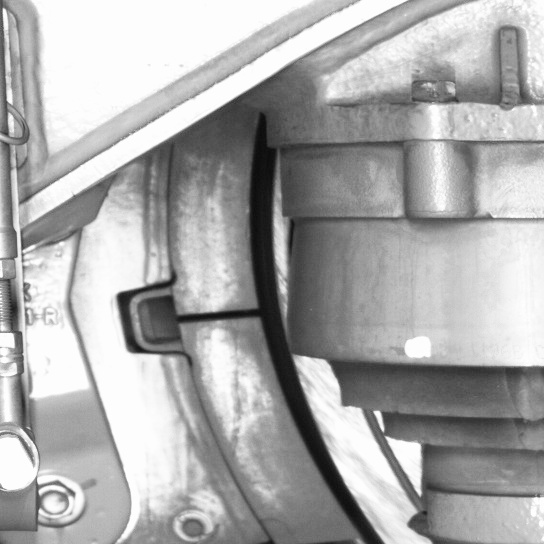KnifeSwitch: (166, 142, 384, 541)
